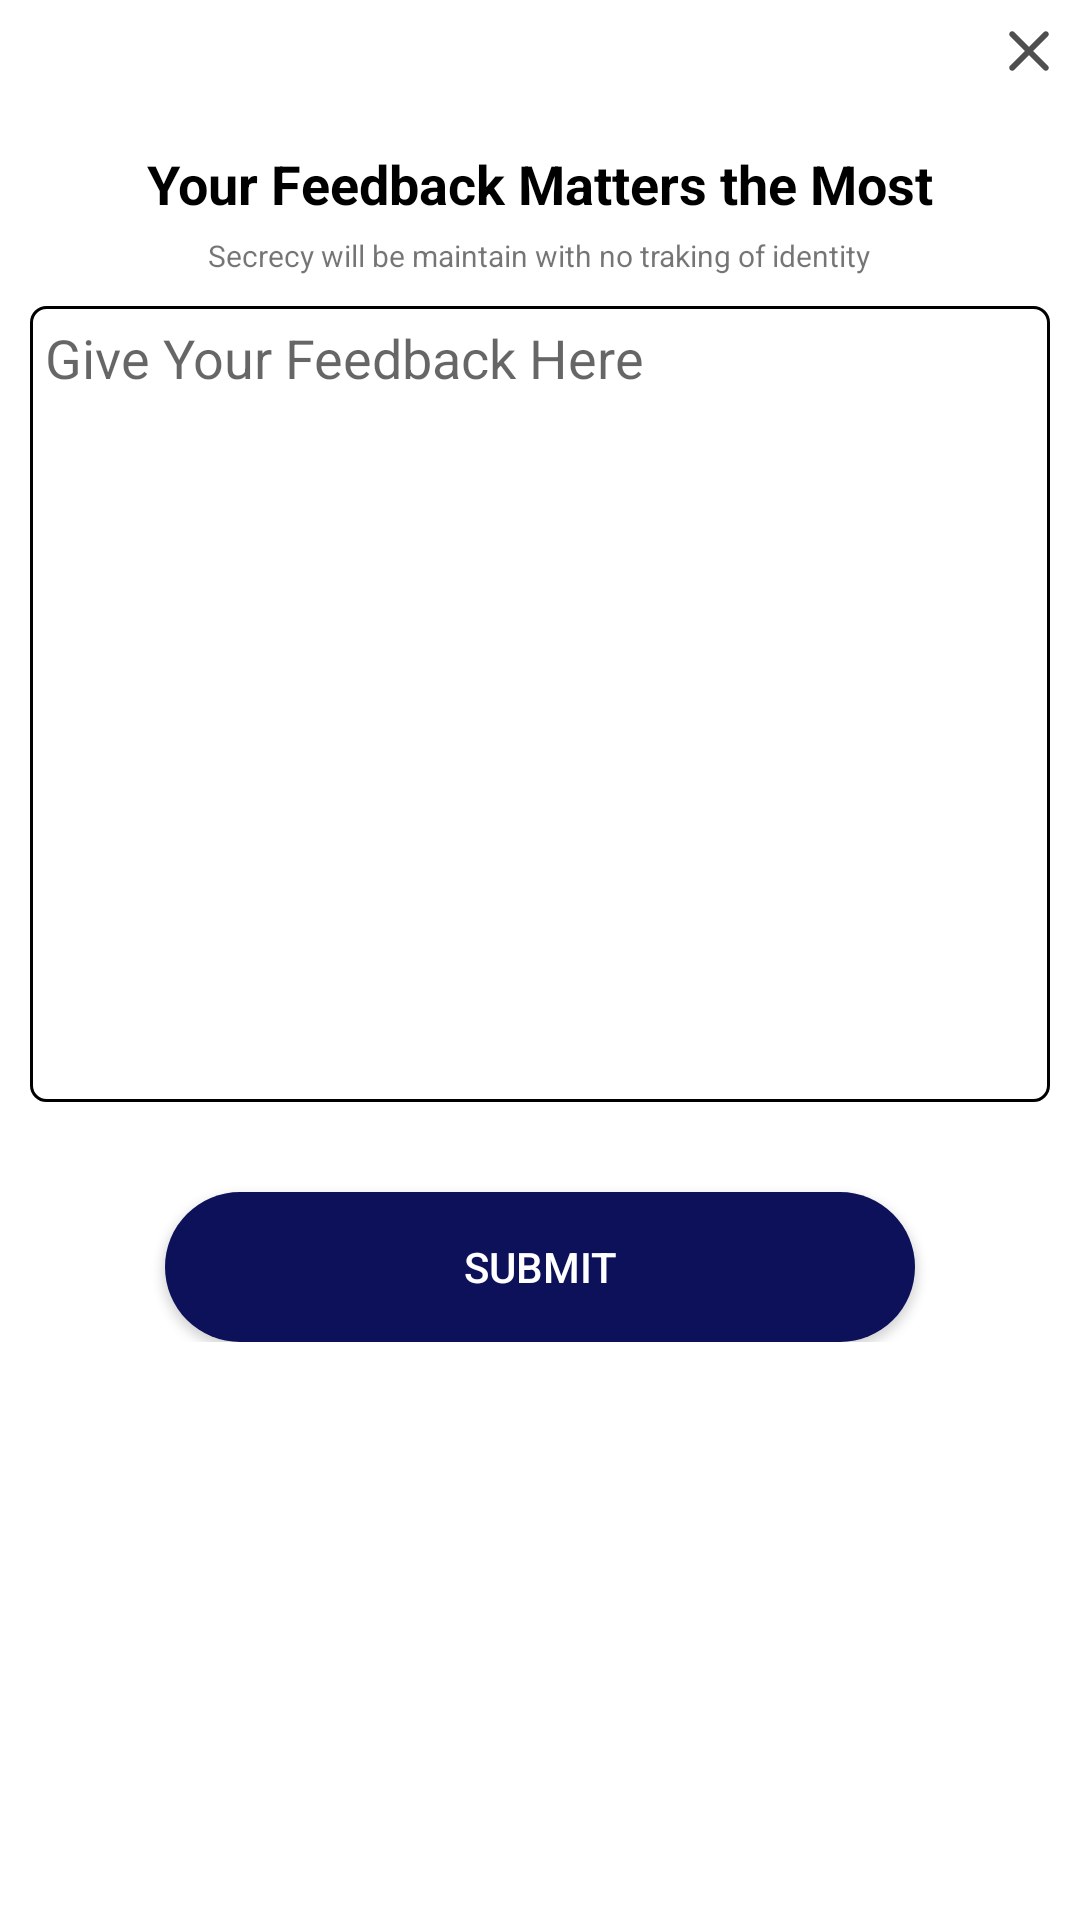

Icon click points for this 1080×1920 phone screenshot, format point (x, y):
close: point (1029, 51)
